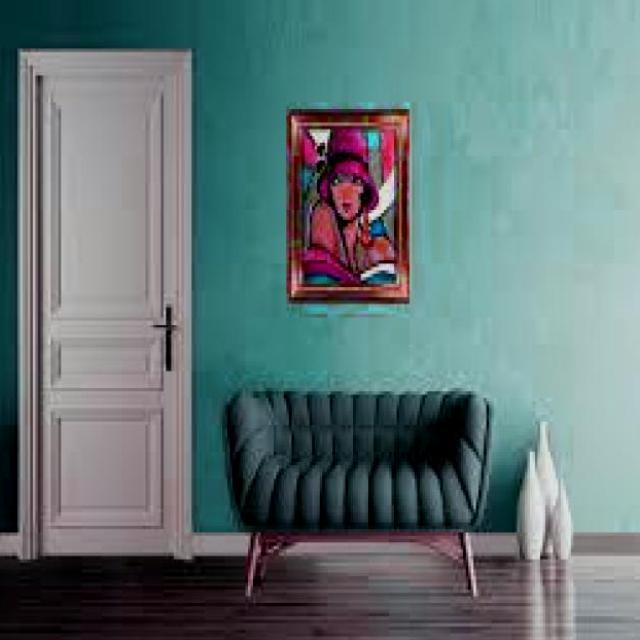door: (21, 47, 192, 559)
